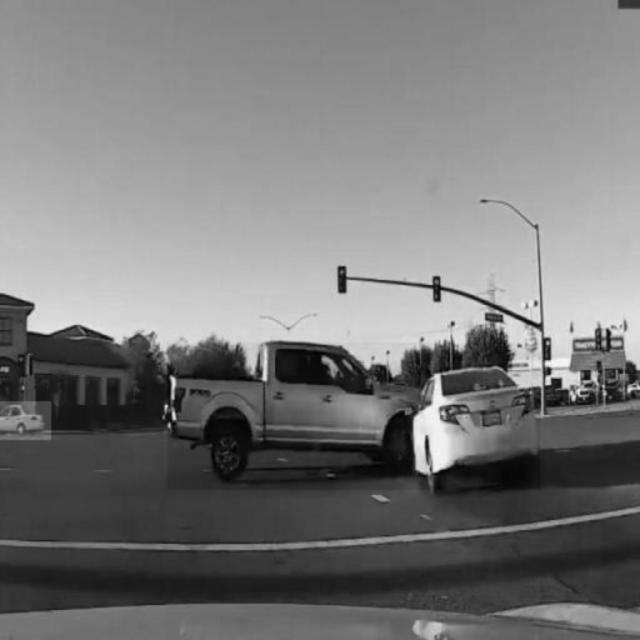accident: (168, 343, 540, 490)
vehicle: (0, 402, 51, 440)
